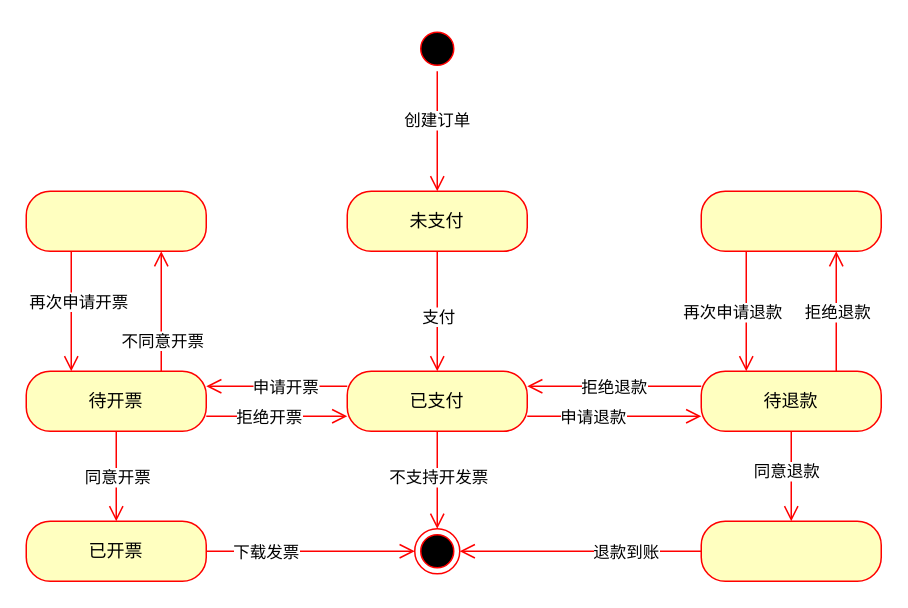
This 908x608 diagram has some shape labels left out. The shapes that lost their labels are listed below. From the top down, each one's box as (x1, y1, x2, y2) in pixels, then its label:
(25, 190, 206, 251): 开票失败
(700, 190, 881, 251): 退款失败
(700, 520, 881, 581): 已退款
